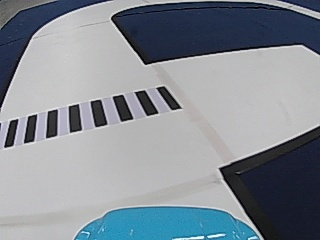CrossWalk: (5, 85, 178, 145)
